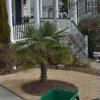Palm tree: (17, 15, 70, 84)
